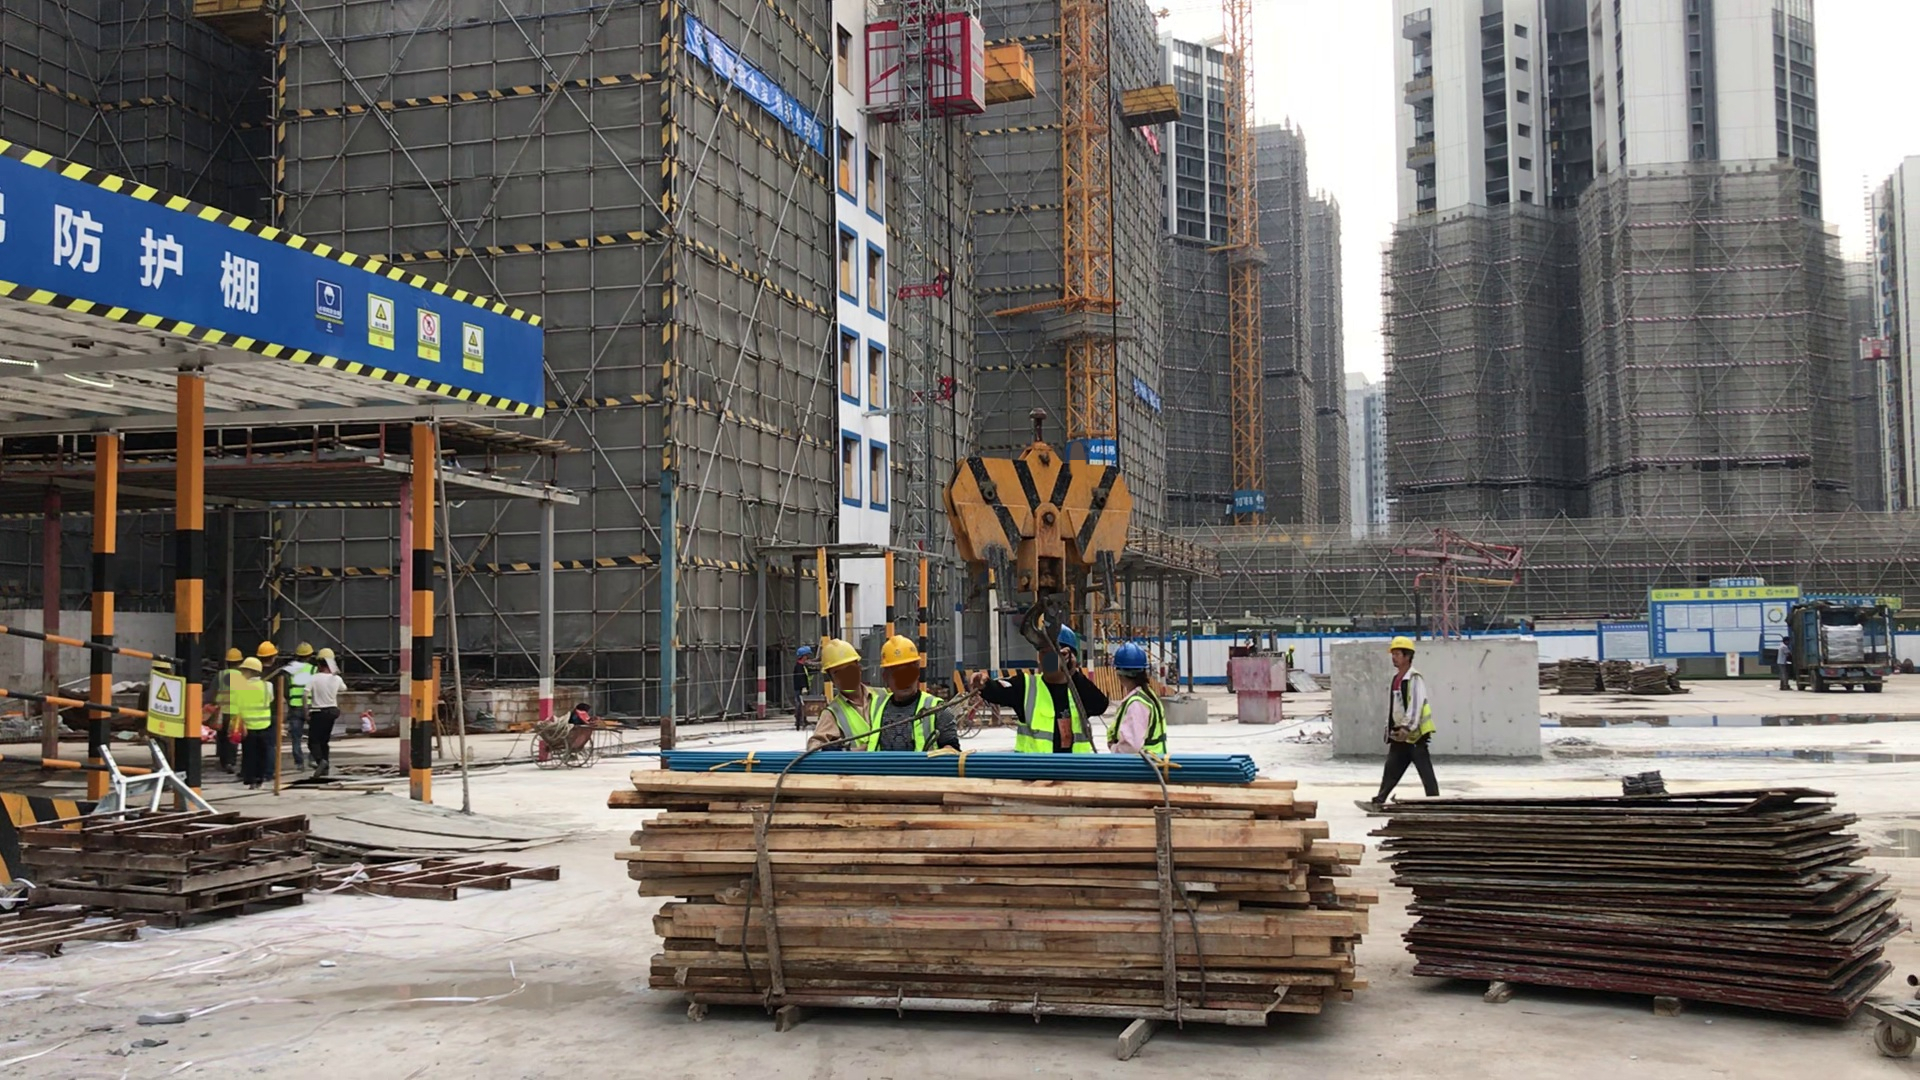board: (1364, 787, 1891, 1021)
handcart: (511, 707, 618, 770)
helmet: (878, 634, 922, 666), (1110, 640, 1150, 673), (819, 638, 859, 667), (1386, 633, 1421, 652), (241, 656, 264, 675), (257, 639, 279, 658), (291, 642, 315, 658), (317, 647, 336, 664), (224, 647, 243, 662), (795, 646, 812, 656)
hook: (946, 409, 1137, 626)
person: (986, 624, 1103, 754), (872, 633, 960, 758), (1380, 634, 1441, 800), (283, 637, 345, 790), (810, 634, 878, 754), (1101, 638, 1171, 756), (222, 646, 271, 795), (788, 641, 819, 730), (1776, 636, 1796, 693), (1283, 644, 1298, 672), (1287, 645, 1296, 651)
slogan: (683, 19, 827, 152), (308, 274, 495, 375), (143, 664, 187, 741), (1228, 488, 1269, 516), (1092, 440, 1118, 467)
vest: (1021, 669, 1092, 755), (873, 693, 943, 762), (826, 695, 890, 751), (1110, 692, 1168, 749), (1405, 670, 1435, 742), (240, 682, 273, 729), (215, 671, 246, 717), (287, 662, 313, 705), (1287, 653, 1294, 668)
wood: (619, 759, 1365, 1041)
